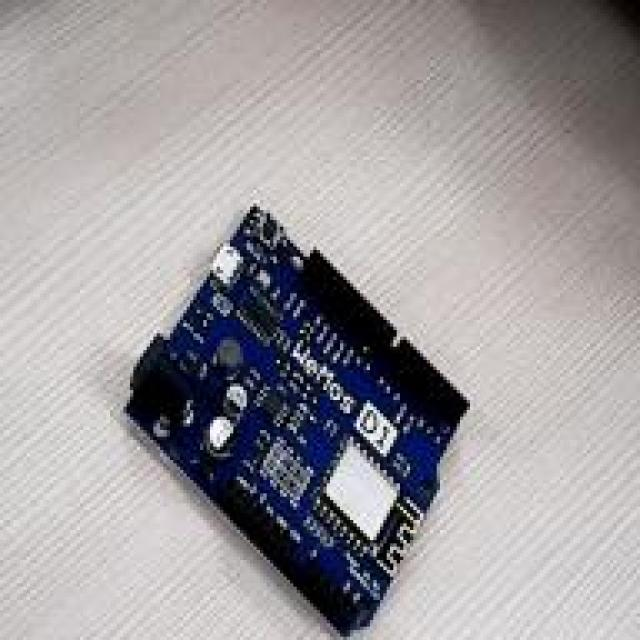Wemos: (128, 204, 468, 631)
